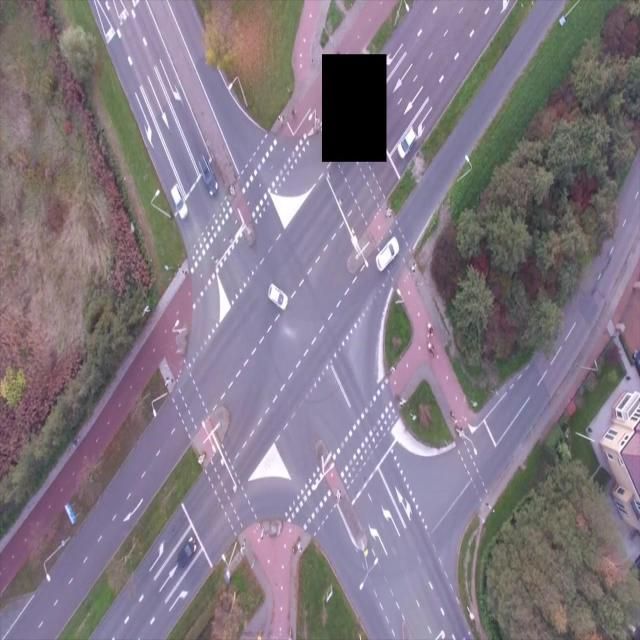car: (193, 155, 222, 199), (374, 234, 402, 273), (167, 180, 189, 218), (396, 123, 418, 158), (176, 534, 198, 566), (266, 283, 288, 310)
